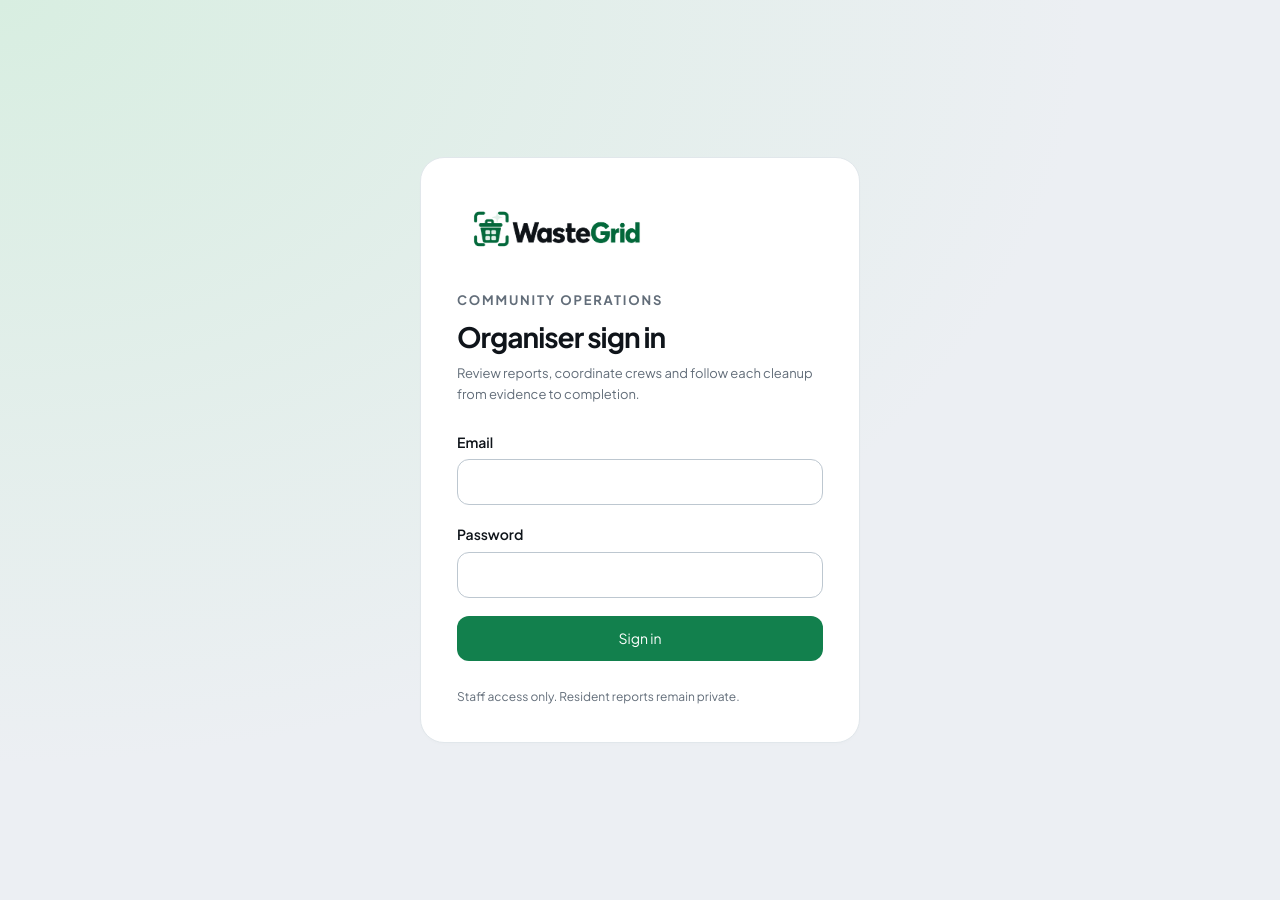
opens a report detail route from the authenticated organiser list
Step 1. Type "organizer@example.com" into the field labelled "Email" → (640, 482), box top-left (457, 459), bottom-right (823, 506)
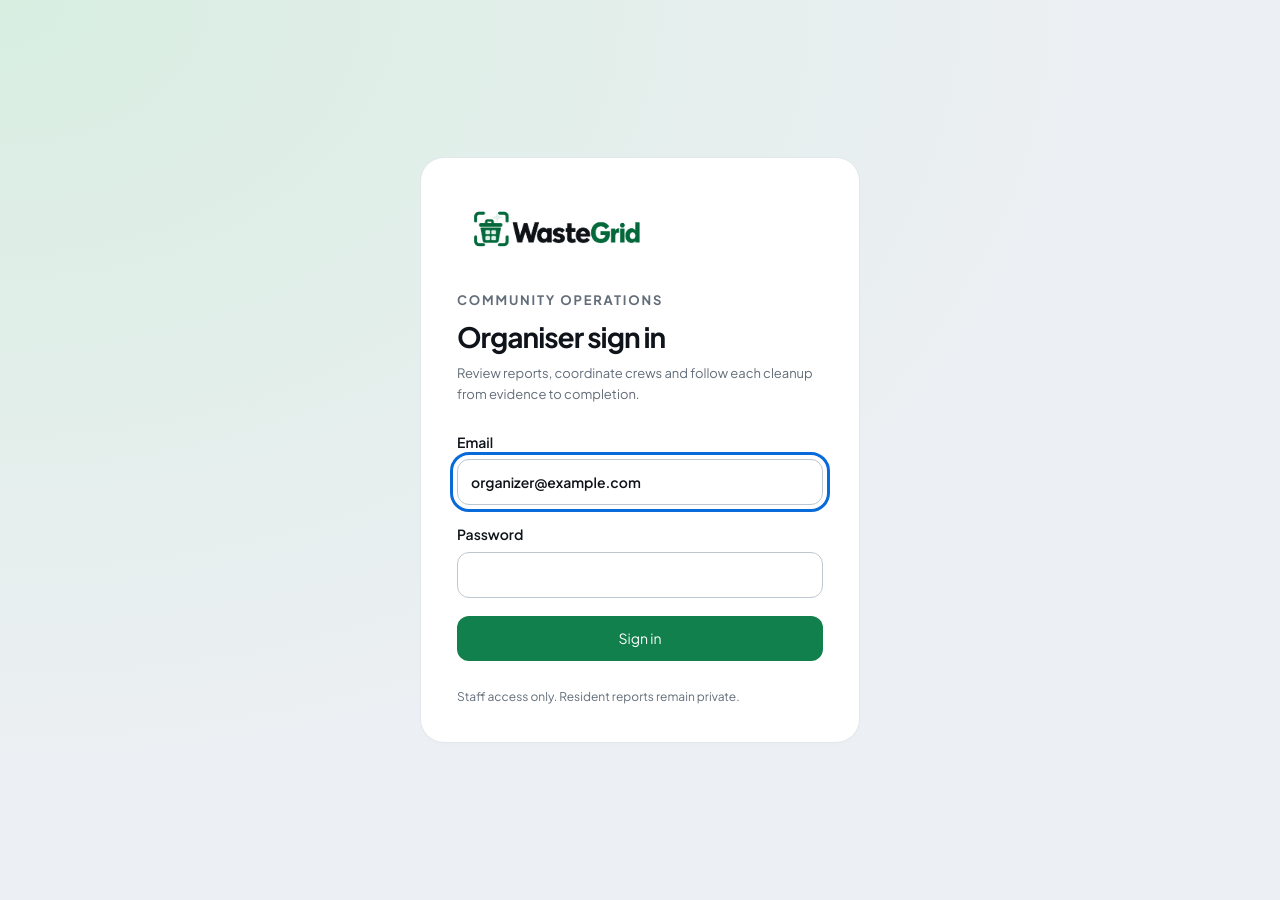
Step 2. Type "password" into the password field labelled "Password" → (640, 575), box top-left (457, 552), bottom-right (823, 598)
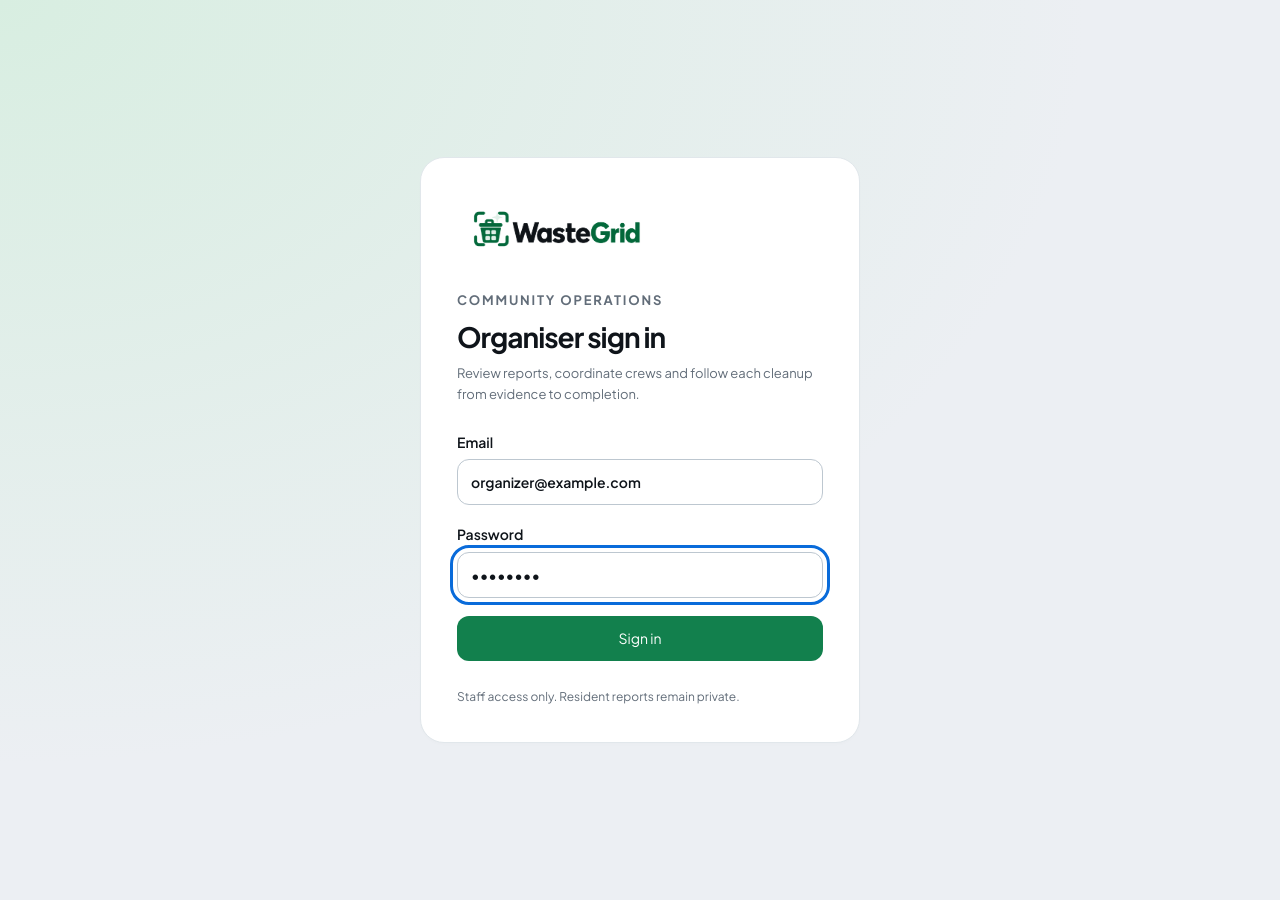
Step 3. Click the button "Sign in" → click(640, 638), box top-left (457, 616), bottom-right (823, 661)
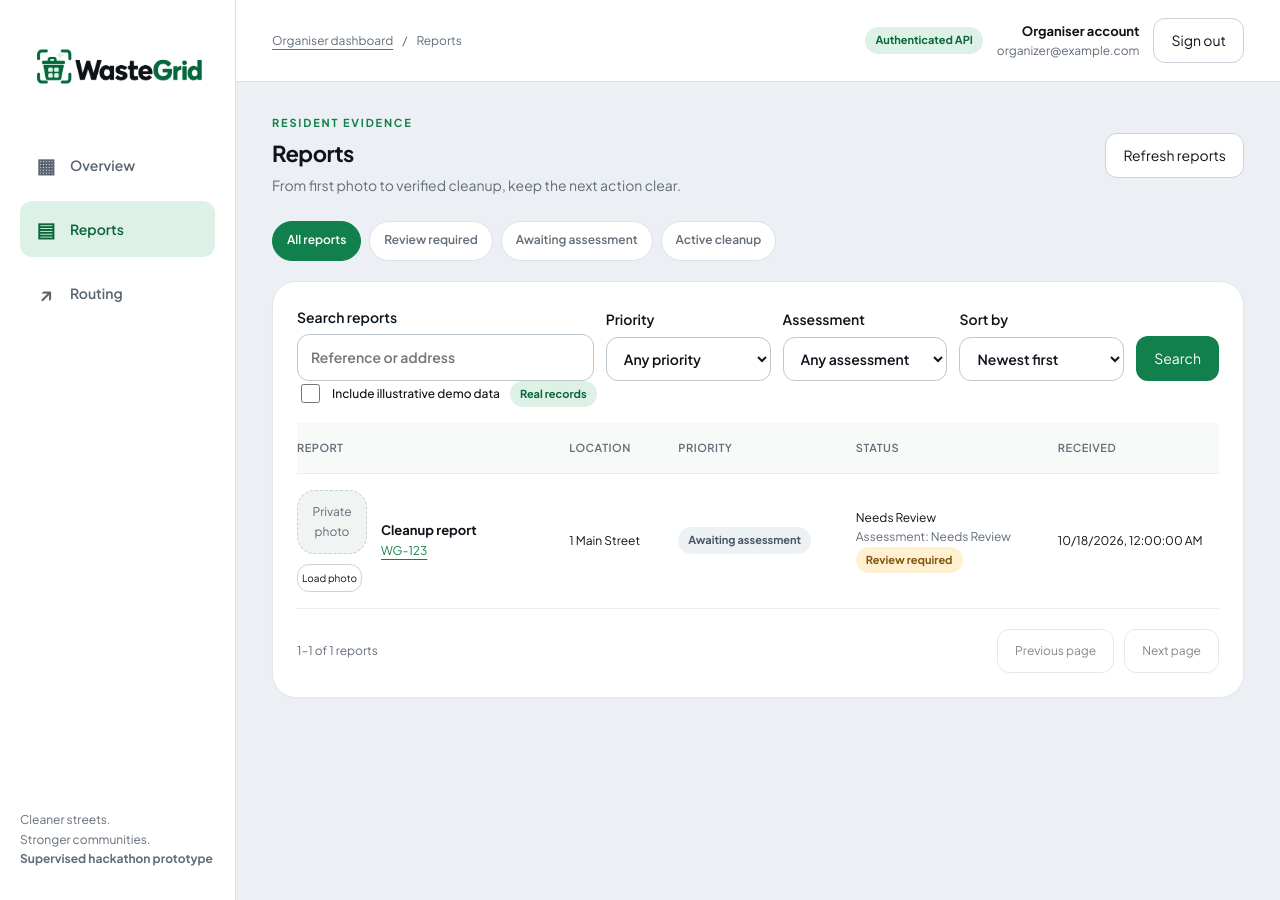
Step 4. Click the link "WG-123" → click(404, 550), box top-left (381, 543), bottom-right (427, 558)
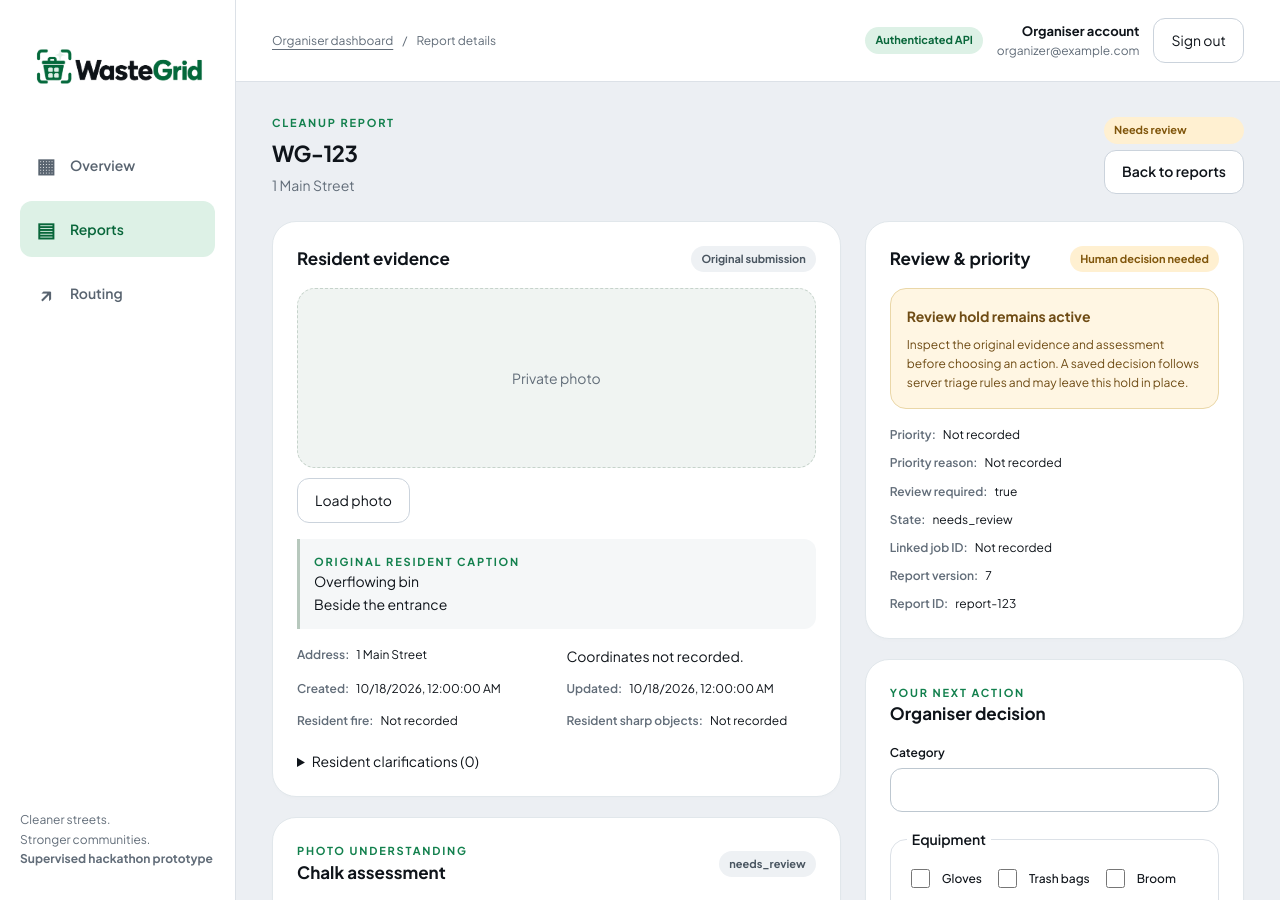
Expected: the heading "WG-123" is shown, top-left (272, 139), bottom-right (357, 167)
